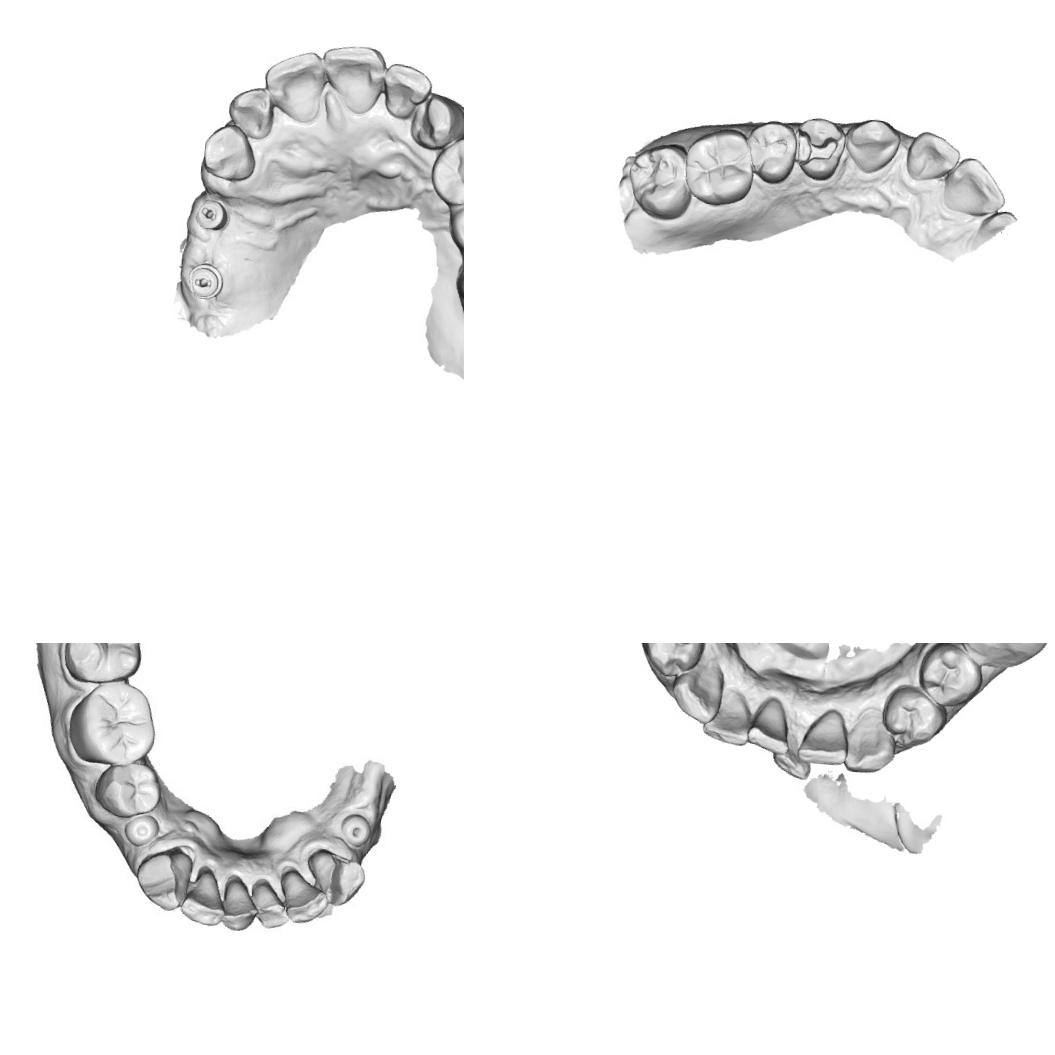canine: (666, 656, 728, 728), (199, 121, 259, 184), (844, 706, 896, 778), (841, 115, 902, 176), (406, 89, 464, 152), (136, 846, 192, 910), (308, 848, 364, 902)
implant: (115, 812, 160, 847), (336, 806, 372, 848)
implant_minus: (184, 260, 225, 302), (192, 196, 231, 233)
incisor: (316, 41, 388, 117), (260, 46, 328, 125), (939, 154, 1008, 219), (904, 128, 962, 184), (380, 60, 433, 120), (224, 84, 276, 141), (182, 865, 230, 926), (803, 710, 852, 768), (768, 726, 815, 781), (215, 874, 258, 934), (279, 870, 327, 922), (747, 697, 791, 753), (704, 694, 749, 747), (248, 879, 290, 928)
inlay: (793, 126, 840, 172)
molar: (67, 676, 164, 769), (680, 123, 758, 208), (622, 138, 695, 222), (57, 643, 152, 684), (952, 643, 1055, 673), (446, 190, 464, 260)
premolar: (911, 643, 985, 710), (92, 756, 162, 821), (878, 682, 946, 748), (743, 118, 800, 186), (636, 643, 705, 686), (426, 134, 464, 210)
